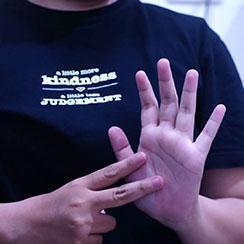N: (13, 26, 244, 244)
